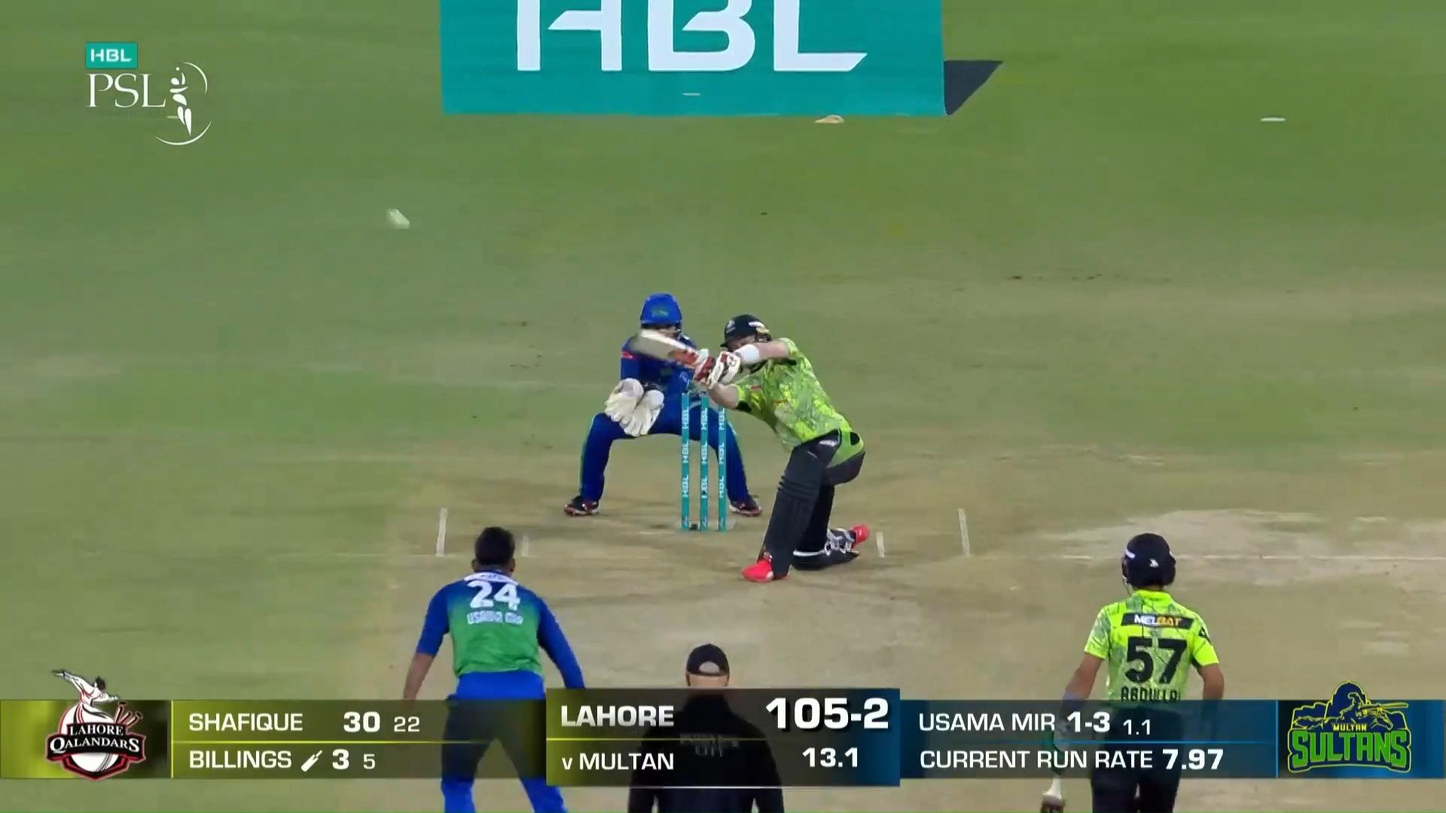batsman: (630, 313, 867, 585)
